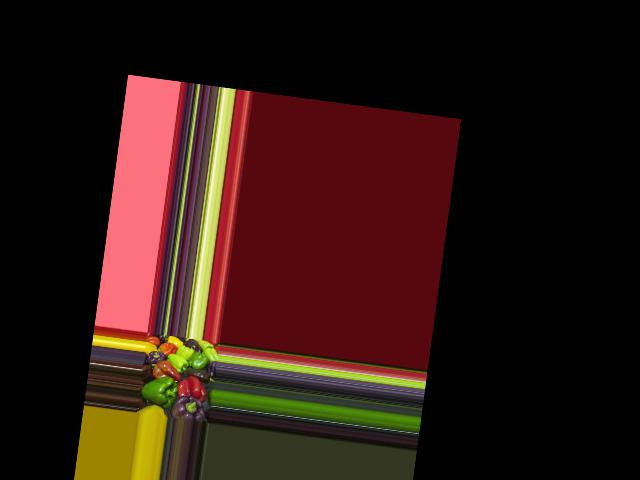bell_pepper: (144, 346, 166, 366)
